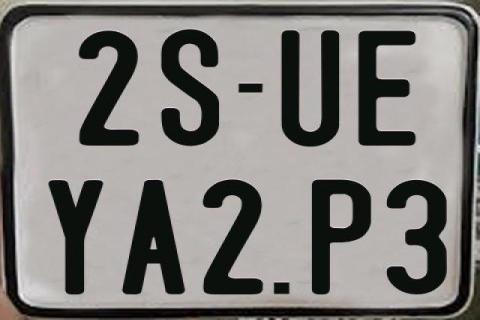0: (77, 29, 143, 145), (200, 179, 264, 295), (384, 178, 445, 296)
A: (120, 179, 183, 295)
E: (358, 29, 419, 144)
P: (310, 178, 374, 296)
S: (161, 29, 220, 147)
U: (280, 29, 342, 150)
Y: (48, 178, 107, 298)
